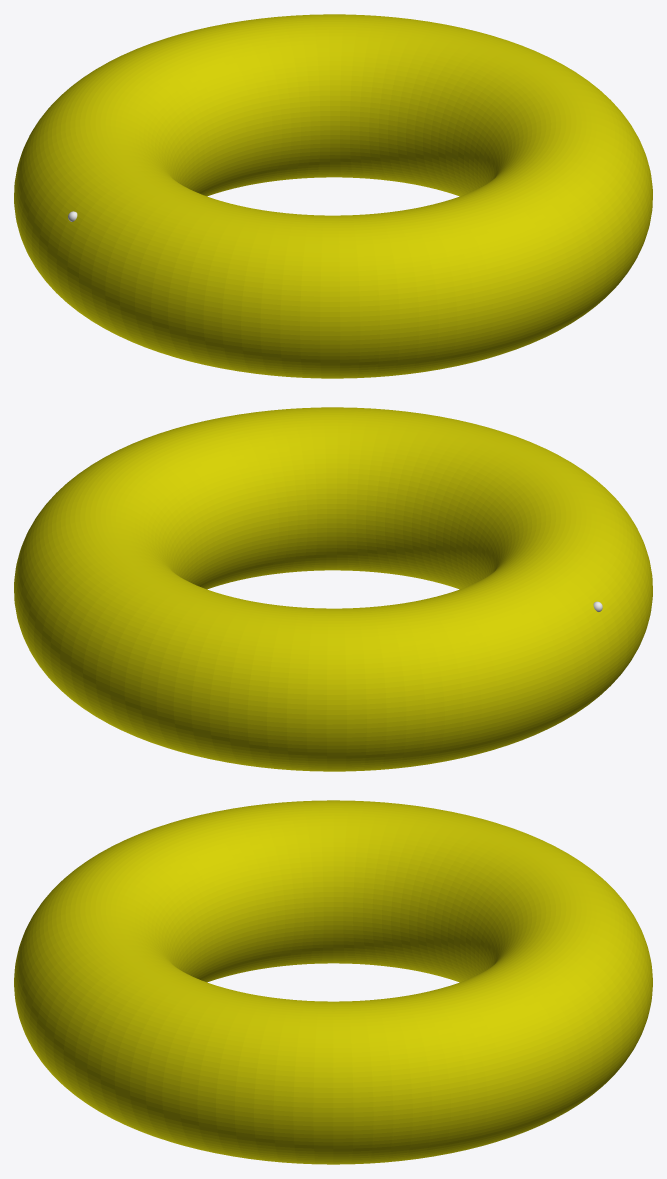
File: bouée.fbx
The picture shows the model from 3 angles, top to bottom: view 1: azimuth 30°, elevation 25°; view 2: azimuth 150°, elevation 25°; view 3: azimuth 270°, elevation 25°; orthographic projection.
Parts seen in each view (by area): view 1: Torus; view 2: Torus; view 3: Torus.
Boxes of the visible parts, x1=… form: Torus: x1=14, y1=14, x2=652, y2=378; Torus: x1=14, y1=407, x2=652, y2=771; Torus: x1=14, y1=800, x2=652, y2=1164.
Bounding box in the file's own units: 796 × 203 × 796.
